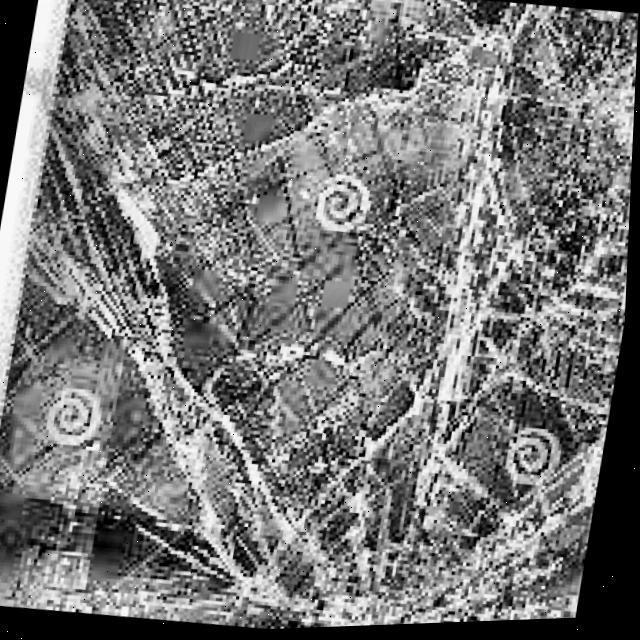glass_shatter: (448, 0, 639, 457), (253, 495, 548, 630)
